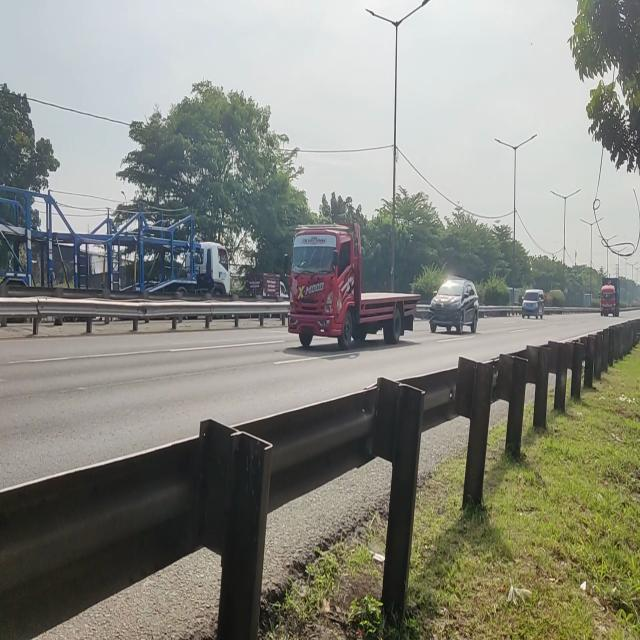Golongan II: (282, 218, 422, 359)
